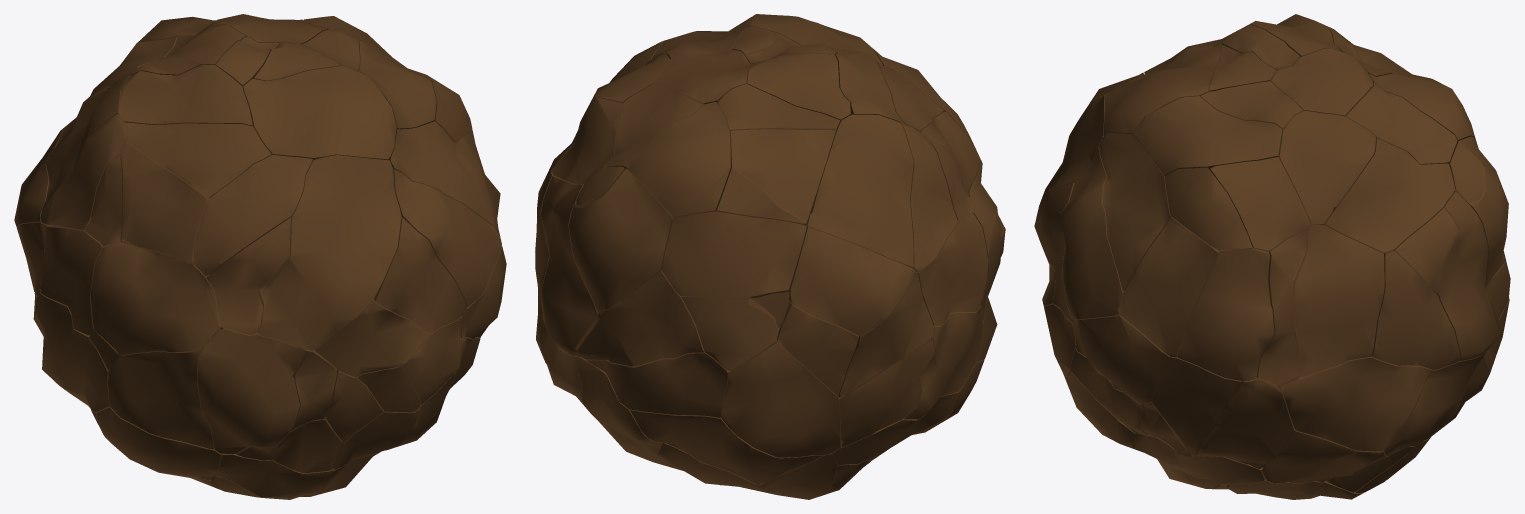
Rendered from skala.fbx.
3 renders of one model, left to right at view 1: azimuth 30°, elevation 25°; view 2: azimuth 150°, elevation 25°; view 3: azimuth 270°, elevation 25°, orthographic.
Parts seen in each view (by area): view 1: Icosphere_cell.049, Icosphere_cell.019, Icosphere_cell.093, Icosphere_cell.066, Icosphere_cell.037, Icosphere_cell.095, Icosphere_cell.080, Icosphere_cell.046, Icosphere_cell.059, Icosphere_cell.029, Icosphere_cell.038, Icosphere_cell.077 (+33 smaller); view 2: Icosphere_cell.015, Icosphere_cell.034, Icosphere_cell.012, Icosphere_cell.047, Icosphere_cell.082, Icosphere_cell.045, Icosphere_cell.044, Icosphere_cell.011, Icosphere_cell.008, Icosphere_cell.005, Icosphere_cell.078, Icosphere_cell.083 (+38 smaller); view 3: Icosphere_cell.065, Icosphere_cell.010, Icosphere_cell.028, Icosphere_cell.020, Icosphere_cell.086, Icosphere_cell.017, Icosphere_cell.075, Icosphere_cell.069, Icosphere_cell.059, Icosphere_cell.036, Icosphere_cell.078, Icosphere_cell.091 (+34 smaller).
Part boxes in pixels (x1,y1,x2,y2): Icosphere_cell.049: (256,155,401,350); Icosphere_cell.019: (90,242,221,354); Icosphere_cell.093: (243,65,396,160); Icosphere_cell.066: (198,327,305,454); Icosphere_cell.037: (193,154,312,276); Icosphere_cell.095: (108,327,221,449); Icosphere_cell.080: (119,141,209,264); Icosphere_cell.046: (123,122,271,197); Icosphere_cell.059: (393,169,501,307); Icosphere_cell.029: (119,64,252,126); Icosphere_cell.038: (374,217,466,333); Icosphere_cell.077: (314,299,429,377); Icosphere_cell.015: (807,114,913,267); Icosphere_cell.034: (661,211,806,298); Icosphere_cell.012: (721,340,840,457); Icosphere_cell.047: (569,168,672,312); Icosphere_cell.082: (789,227,915,336); Icosphere_cell.045: (628,102,731,219); Icosphere_cell.044: (577,268,704,366); Icosphere_cell.011: (730,128,836,221); Icosphere_cell.008: (586,352,730,417); Icosphere_cell.005: (629,409,824,485); Icosphere_cell.078: (541,184,599,356); Icosphere_cell.083: (916,213,988,325); Icosphere_cell.065: (1294,225,1384,377); Icosphere_cell.010: (1278,356,1432,451); Icosphere_cell.028: (1178,248,1274,381); Icosphere_cell.020: (1320,138,1454,252); Icosphere_cell.086: (1120,216,1231,357); Icosphere_cell.017: (1134,96,1282,175); Icosphere_cell.075: (1279,110,1375,224); Icosphere_cell.069: (1099,133,1170,291); Icosphere_cell.059: (1060,146,1124,319); Icosphere_cell.036: (1371,250,1460,370); Icosphere_cell.078: (1428,191,1499,361); Icosphere_cell.091: (1208,157,1310,250).
Bounding box in the file's own units: 0.9316 × 0.9243 × 0.9268.
